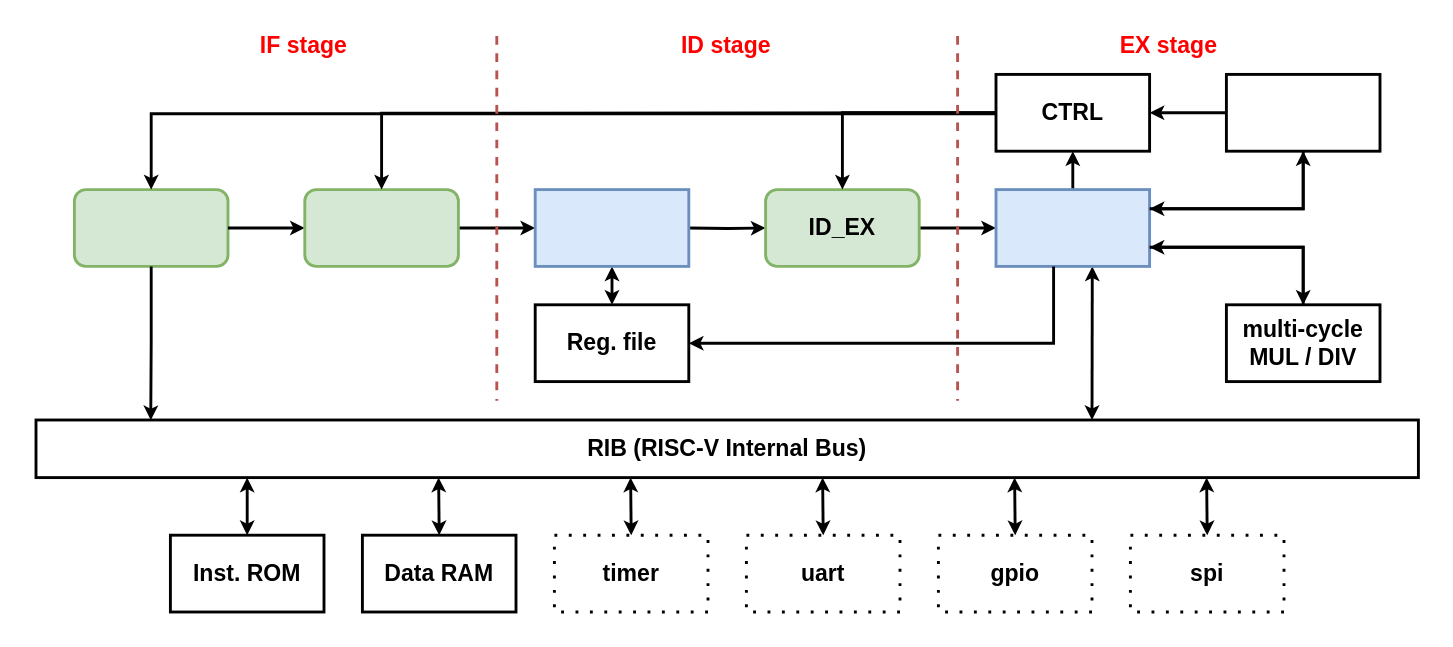
This 1453x647 diagram has some shape labels left out. Here are the shapes that lost their labels. From the top down, the centre of each, then its label:
(1302,112): CSR / clint
(150,227): PC_REG
(381,227): IF_ID
(611,227): ID
(1072,227): EX
